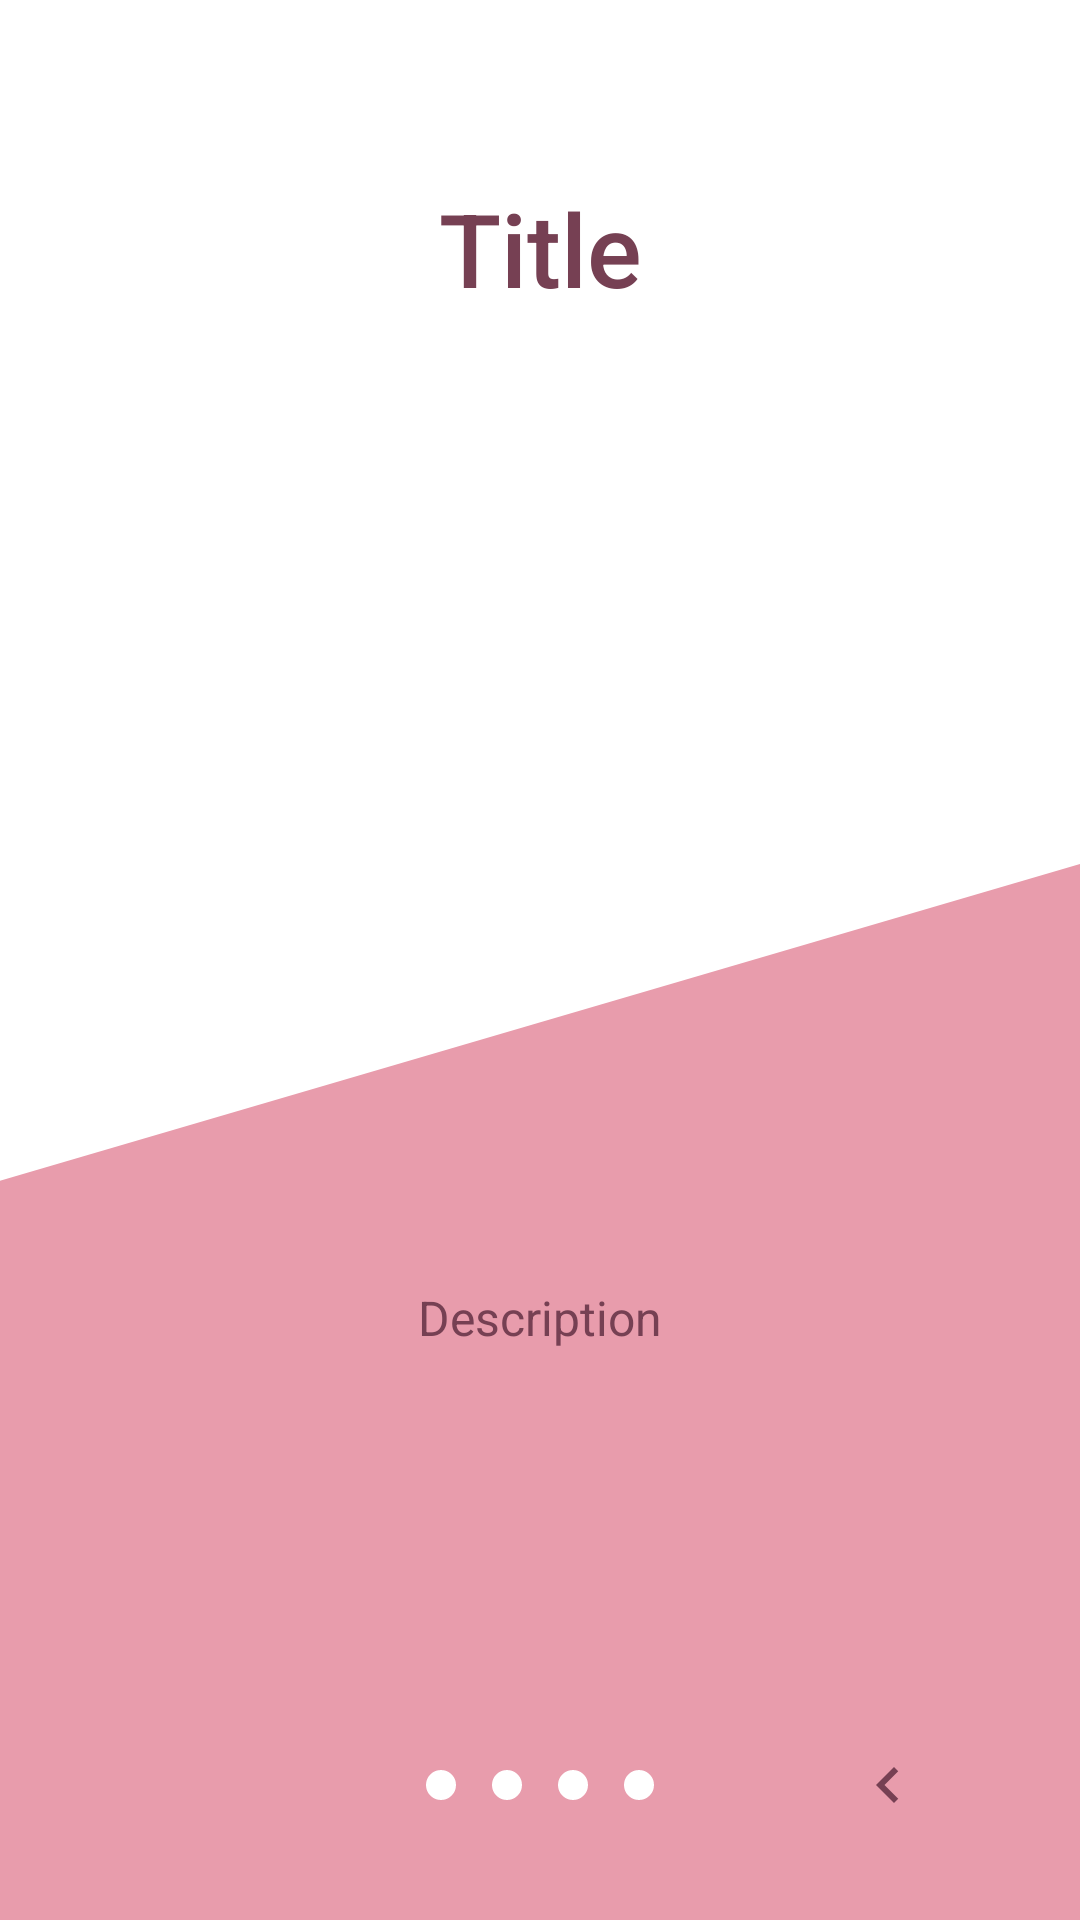

Where to tap for icons on this 1080w x 1920h app screen, as point (x, y):
indicator: point (441, 1785), point (507, 1785), point (573, 1785), point (639, 1785)
